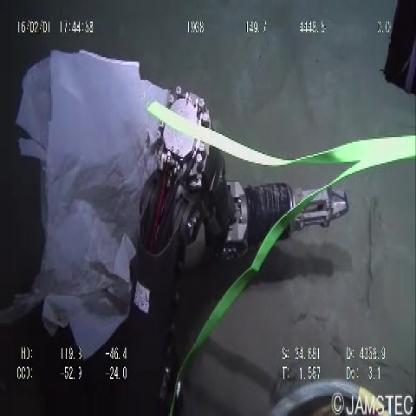Rov: (126, 82, 355, 354)
Rác: (13, 46, 172, 368)
